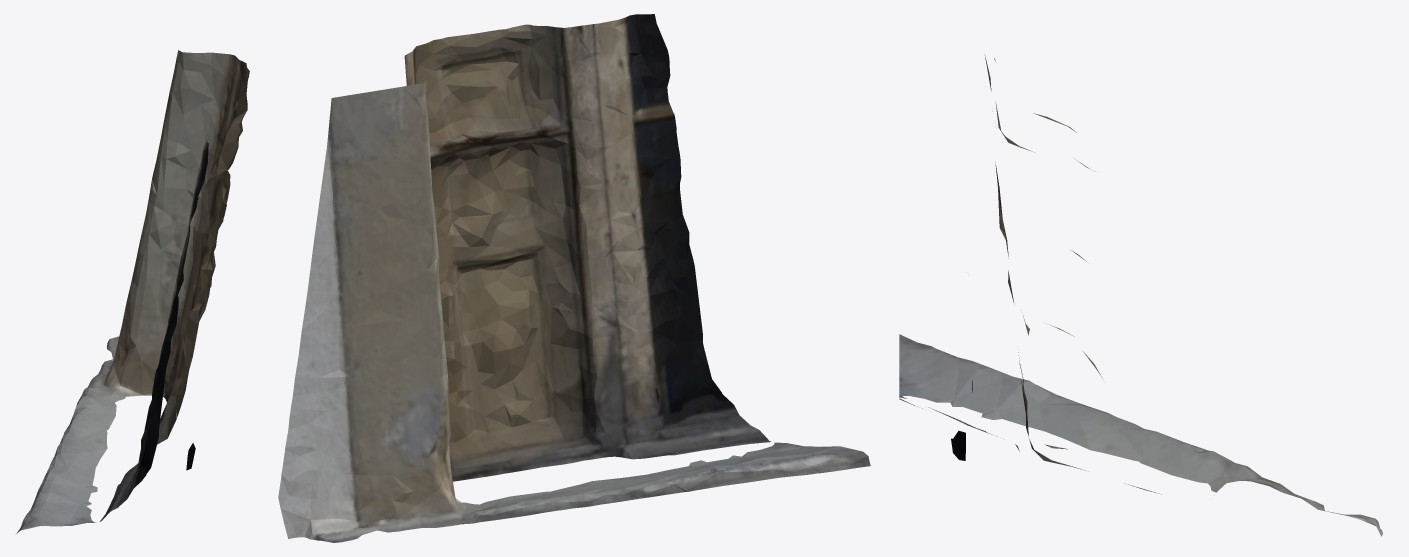
The picture shows the model from 3 angles, left to right: view 1: azimuth 30°, elevation 25°; view 2: azimuth 150°, elevation 25°; view 3: azimuth 270°, elevation 25°; orthographic projection. The views are drawn at different scales.
Size of the model in its own units: 0.8167 by 0.8374 by 0.8374.
Materials: 3 (3 with a texture image).
